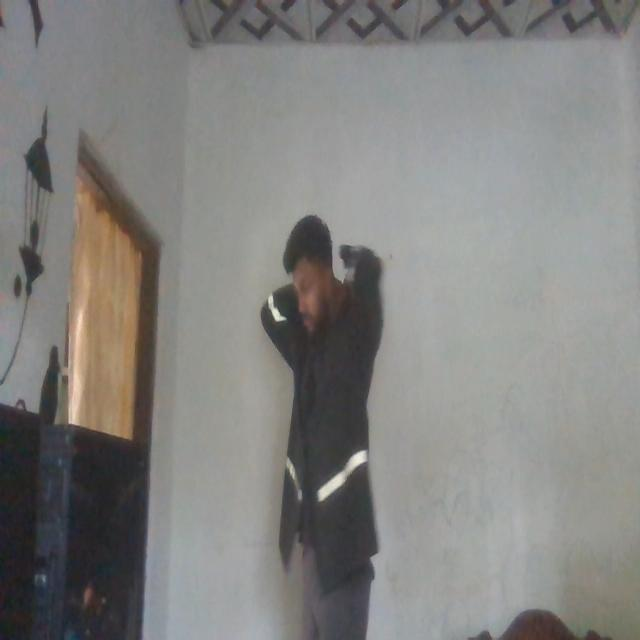Jacket_Wearer: (261, 259, 387, 576)
Person: (255, 210, 389, 640)
